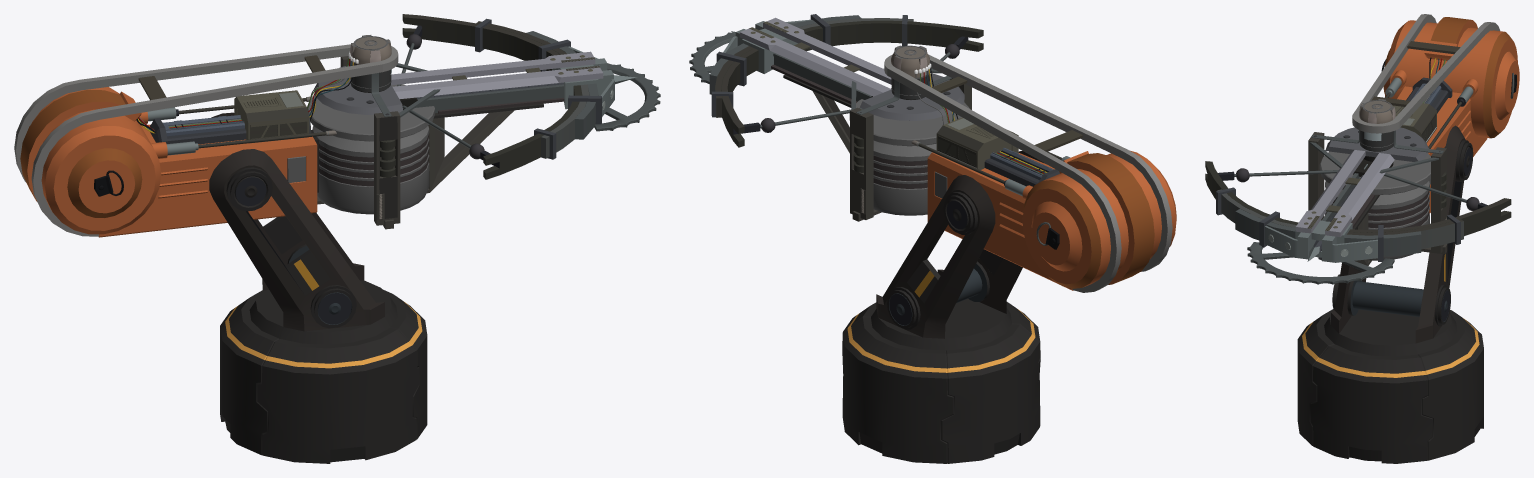
The model's file is GugugagaUuuu.fbx.
3 views of the same model, side by side, from view 1: azimuth 30°, elevation 25°; view 2: azimuth 150°, elevation 25°; view 3: azimuth 270°, elevation 25° (orthographic). The views are drawn at different scales.
Visible parts, largest first — view 1: Cylinder.001, Cylinder.003, Cube.001, Cylinder.004, Cube.003, Cube.017, Cube.016, Cube.013, Cube.011, Cube.043, Cube.007, Cube.023 (+12 smaller); view 2: Cylinder.001, Cylinder.003, Cube.001, Cylinder.004, Cube.016, Cube.003, Cube.017, Cube.013, Cylinder.002, Cylinder.005, Cube.023, Cylinder (+12 smaller); view 3: Cylinder.001, Cylinder.003, Cylinder.004, Cube.001, Cube.017, Cylinder.002, Cube.015, Cube.016, Cube.013, Cube.021, Circle, Cube.003 (+12 smaller).
Boxes of the visible parts, x1=… form: Cylinder.001: x1=220, y1=280, x2=427, y2=463; Cylinder.003: x1=14, y1=44, x2=382, y2=236; Cube.001: x1=209, y1=112, x2=384, y2=331; Cylinder.004: x1=307, y1=35, x2=434, y2=214; Cube.003: x1=98, y1=124, x2=317, y2=237; Cube.017: x1=391, y1=51, x2=603, y2=99; Cube.016: x1=402, y1=14, x2=582, y2=179; Cube.013: x1=340, y1=56, x2=400, y2=225; Cube.011: x1=428, y1=110, x2=514, y2=192; Cube.043: x1=263, y1=216, x2=330, y2=295; Cube.007: x1=415, y1=84, x2=563, y2=113; Cube.023: x1=234, y1=90, x2=308, y2=143; Cylinder.001: x1=842, y1=298, x2=1040, y2=463; Cylinder.003: x1=887, y1=54, x2=1176, y2=292; Cube.001: x1=876, y1=151, x2=1043, y2=338; Cylinder.004: x1=849, y1=45, x2=969, y2=215; Cube.016: x1=721, y1=20, x2=983, y2=147; Cube.003: x1=927, y1=152, x2=1073, y2=290; Cube.017: x1=739, y1=17, x2=891, y2=96; Cube.013: x1=850, y1=78, x2=971, y2=219; Cylinder.002: x1=887, y1=261, x2=989, y2=329; Cylinder.005: x1=860, y1=73, x2=964, y2=120; Cube.023: x1=936, y1=117, x2=1018, y2=169; Cylinder: x1=943, y1=163, x2=1045, y2=234; Cylinder.001: x1=1297, y1=309, x2=1483, y2=463; Cylinder.003: x1=1352, y1=14, x2=1519, y2=138; Cylinder.004: x1=1319, y1=99, x2=1430, y2=260; Cube.001: x1=1331, y1=125, x2=1465, y2=343; Cube.017: x1=1295, y1=150, x2=1394, y2=237; Cylinder.002: x1=1332, y1=274, x2=1450, y2=326; Cube.015: x1=1264, y1=220, x2=1377, y2=262; Cube.016: x1=1205, y1=161, x2=1511, y2=236; Cube.013: x1=1308, y1=132, x2=1446, y2=253; Cube.021: x1=1235, y1=209, x2=1421, y2=256; Circle: x1=1247, y1=242, x2=1394, y2=284; Cube.003: x1=1397, y1=86, x2=1487, y2=213.
Bounding box in the file's own units: 708 × 455 × 386.
